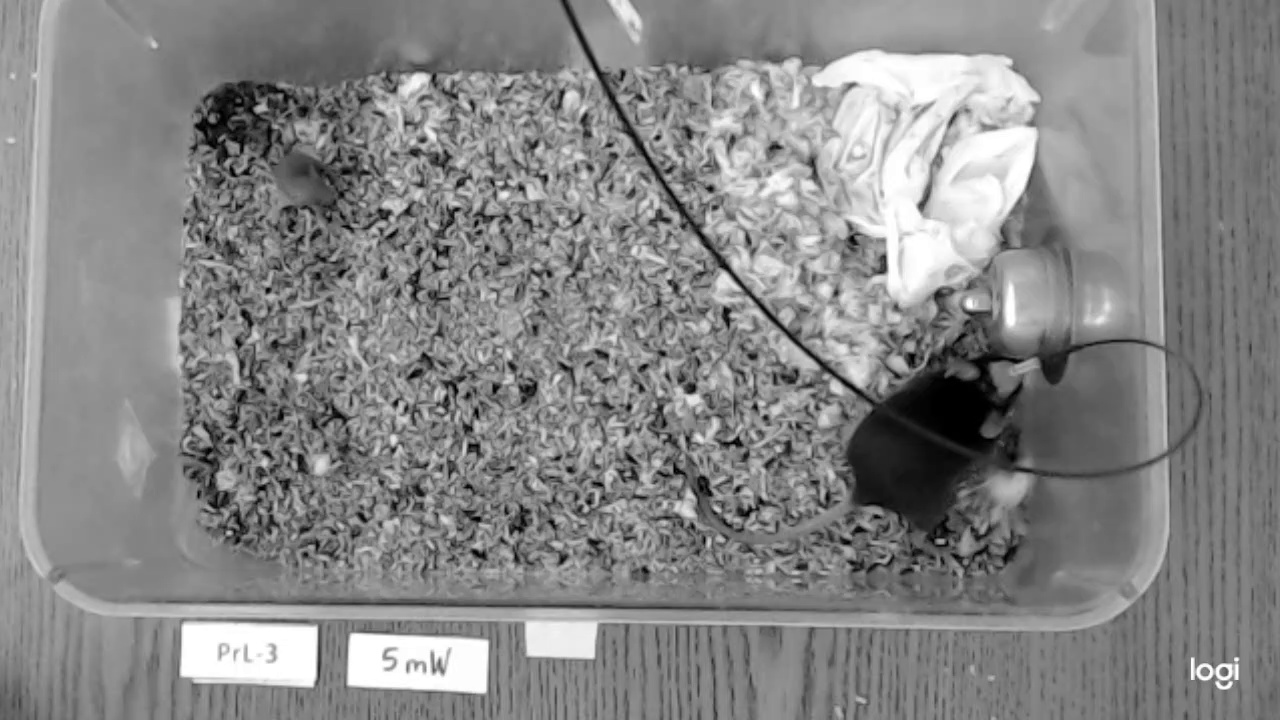child-mice: (276, 151, 337, 214)
